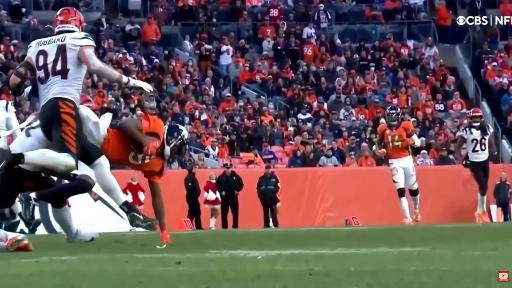Helmet: (164, 124, 189, 159), (54, 8, 85, 33), (386, 105, 402, 129), (468, 108, 483, 124)
Jersey: (27, 32, 95, 105), (101, 126, 165, 182), (378, 122, 414, 159), (457, 125, 493, 161), (0, 100, 19, 131)
Player: (0, 8, 155, 227), (100, 115, 189, 243), (0, 167, 98, 242), (376, 106, 420, 224), (456, 108, 496, 222), (0, 200, 40, 233), (0, 230, 32, 251)
